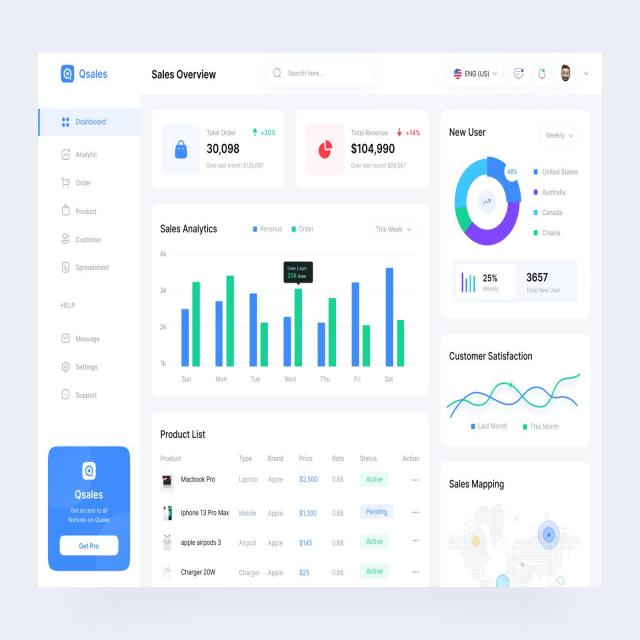button: (60, 534, 119, 557)
input: (268, 62, 382, 86)
select: (451, 64, 499, 81)
